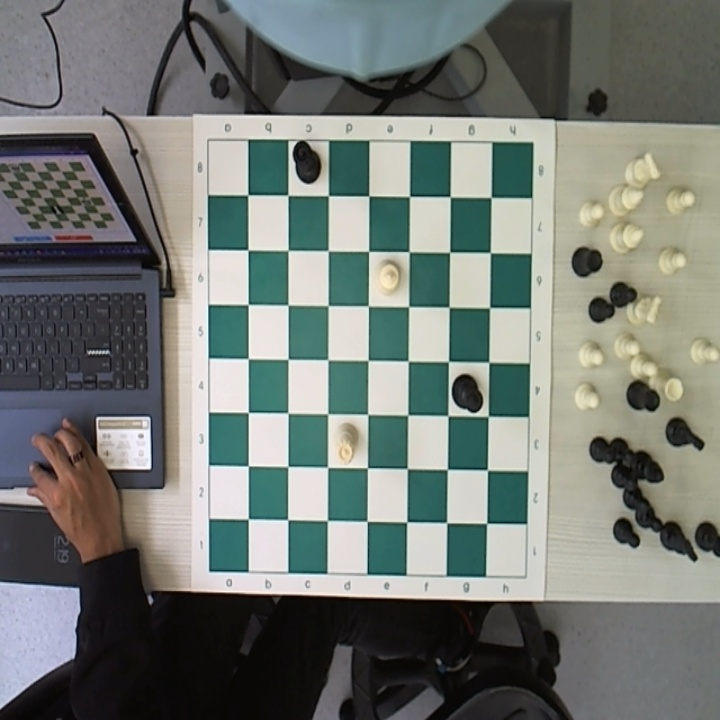DamaBlanca: (327, 413, 367, 468)
DamaNegra: (287, 140, 328, 195)
ReyBlanco: (368, 251, 409, 306)
ReyNegro: (447, 361, 488, 416)
